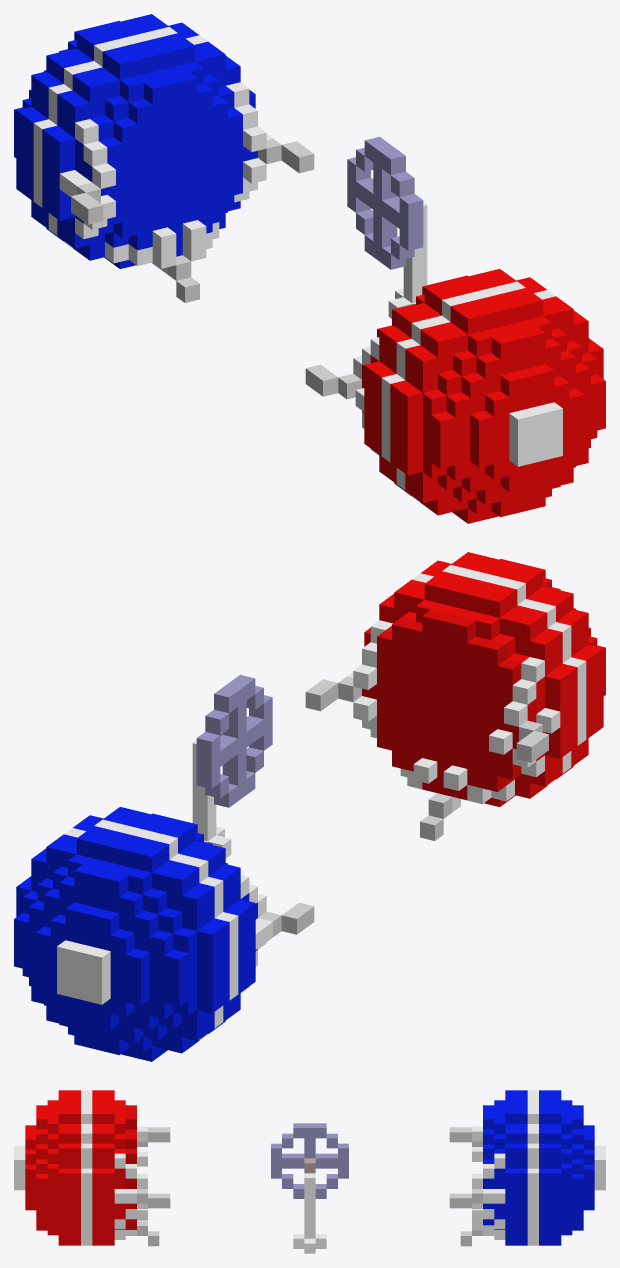
The model's file is DownBodyArm.obj.
3 renders of one model, top to bottom at view 1: azimuth 30°, elevation 25°; view 2: azimuth 150°, elevation 25°; view 3: azimuth 270°, elevation 25°, orthographic. The views are drawn at different scales.
Bounding box in the file's own units: 16 × 14 × 53.
1 material, 1 textured.
